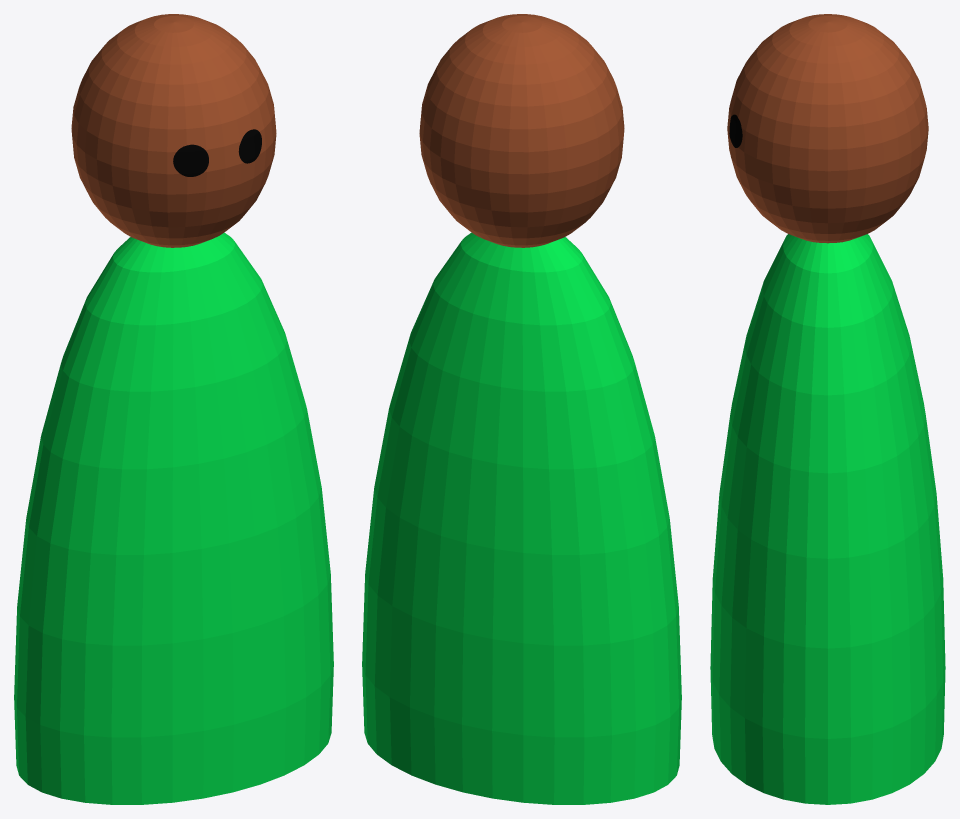
File: player2.fbx
The picture shows the model from 3 angles, left to right: view 1: azimuth 30°, elevation 25°; view 2: azimuth 150°, elevation 25°; view 3: azimuth 270°, elevation 25°; orthographic projection.
Parts seen in each view (by area): view 1: Sphere, Sphere.001, Sphere.002, Sphere.003; view 2: Sphere, Sphere.001; view 3: Sphere, Sphere.001.
Boxes of the visible parts, x1,y1,x2,y2 form: Sphere: [14, 232, 333, 804]; Sphere.001: [71, 14, 276, 247]; Sphere.002: [173, 144, 208, 176]; Sphere.003: [238, 129, 261, 163]; Sphere: [362, 232, 681, 804]; Sphere.001: [419, 14, 624, 247]; Sphere: [710, 234, 945, 804]; Sphere.001: [727, 14, 928, 243].
Size of the model in its own units: 200 by 468 by 140.
